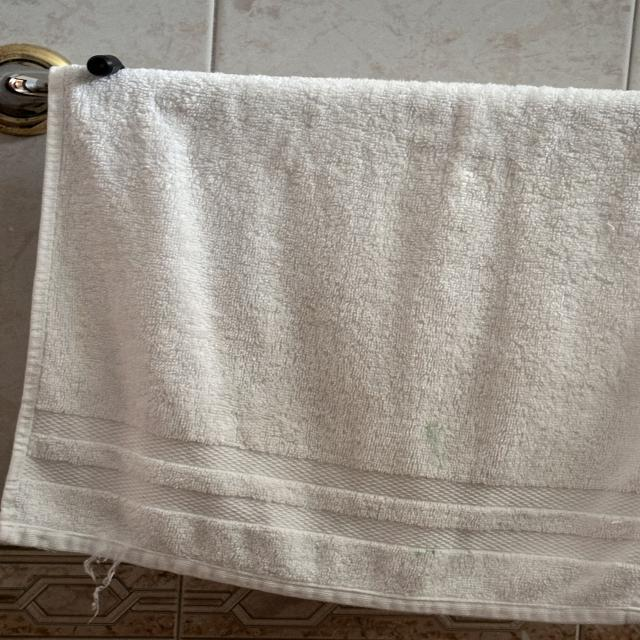hidden camera: (87, 57, 113, 78)
